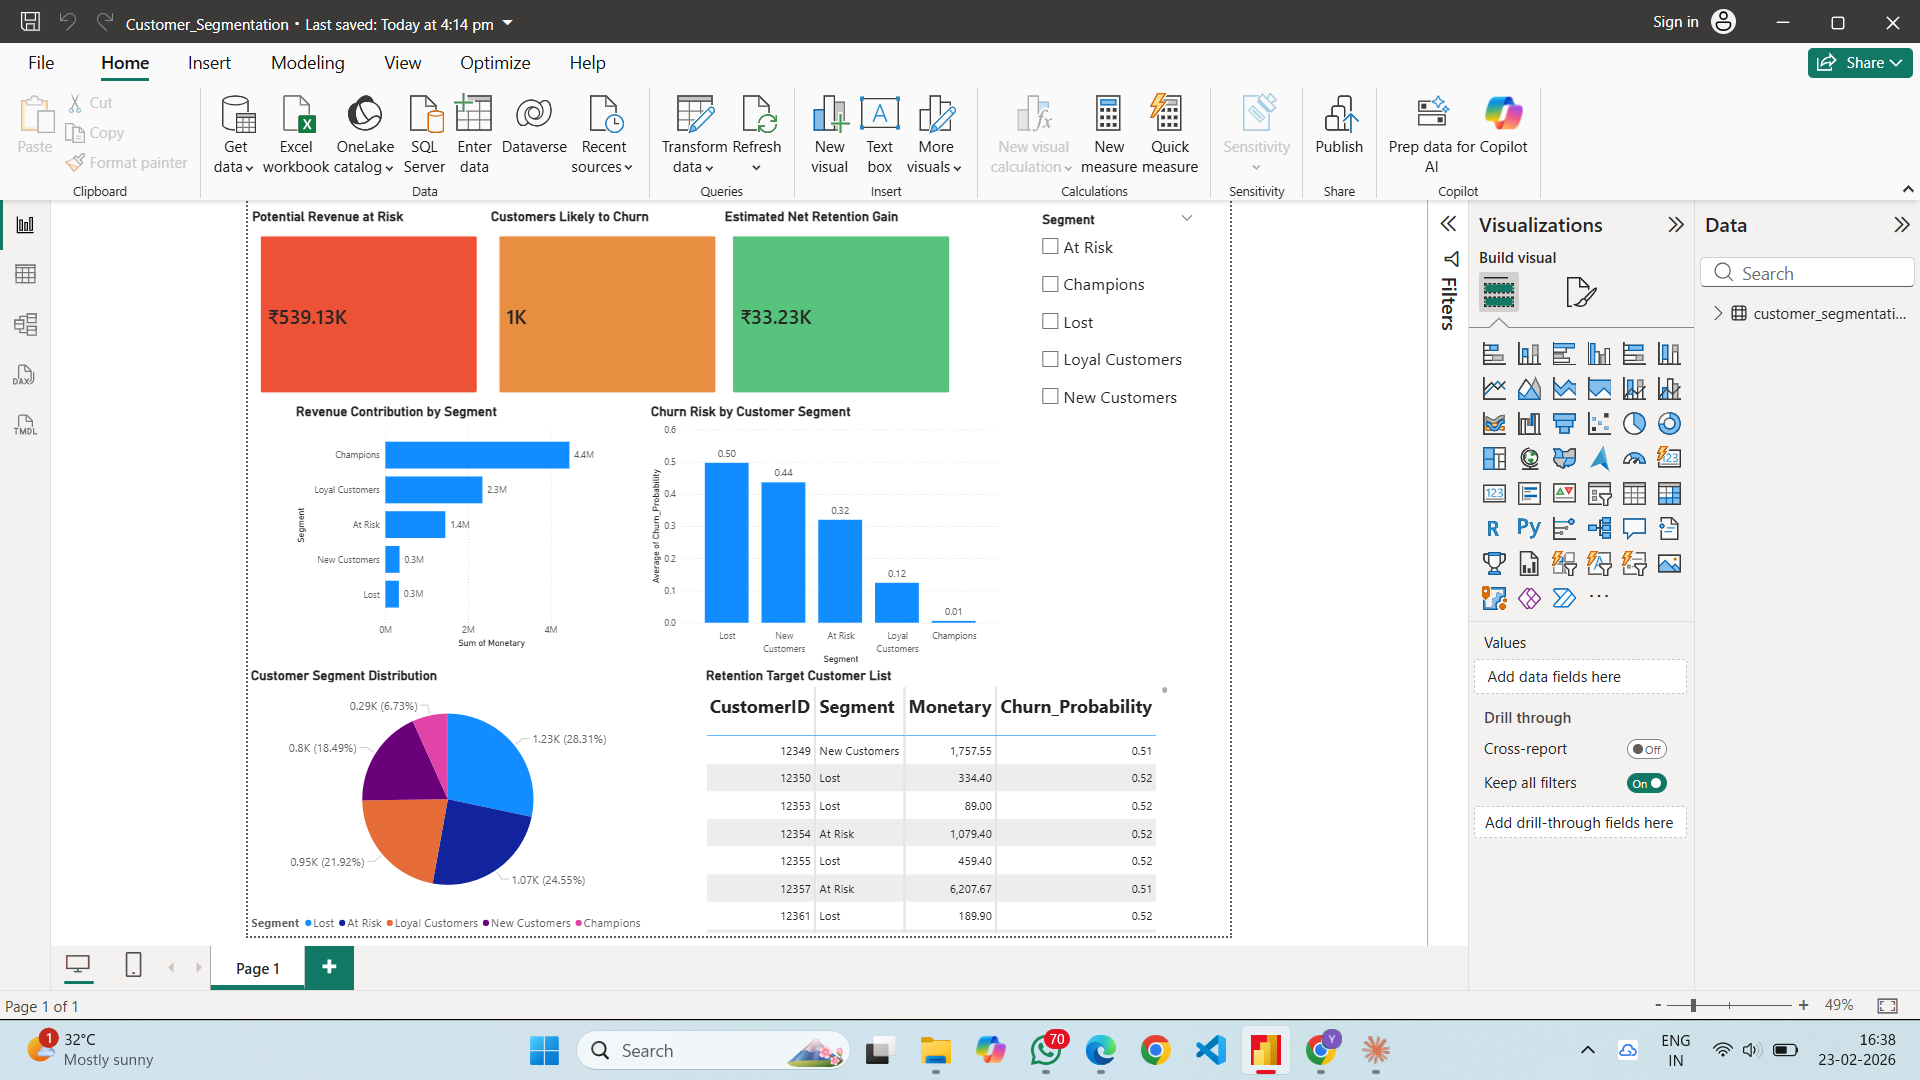

What the dashboard file says about the page in this screenshot:
{"tool":"powerbi","page":{"name":"Page 1","canvas":[1600,1200],"ordinal":0},"visuals":[{"type":"pieChart","title":"Customer Segment Distribution","fields":{"Category":["customer_segmentation_output.Segment"],"Y":["CountNonNull(customer_segmentation_output.CustomerID)"]},"box":[0,762.2,652.2,438.2],"z":0},{"type":"clusteredBarChart","title":"Revenue Contribution by Segment","fields":{"Category":["customer_segmentation_output.Segment"],"Y":["Sum(customer_segmentation_output.Monetary)"]},"box":[73.4,332.2,513.6,403.5],"z":1000},{"type":"clusteredColumnChart","title":"Churn Risk by Customer Segment","fields":{"Category":["customer_segmentation_output.Segment"],"Y":["Avg(customer_segmentation_output.Churn_Probability)"]},"box":[652.2,332.2,578.8,430],"z":2000},{"type":"cardVisual","title":"Customers Likely to Churn","fields":{"Data":["customer_segmentation_output.High Risk Customers"]},"box":[391.3,14.3,389.3,317.9],"z":3000},{"type":"tableEx","title":"Retention Target Customer List","fields":{"Values":["customer_segmentation_output.CustomerID","customer_segmentation_output.Segment","customer_segmentation_output.Monetary","customer_segmentation_output.Churn_Probability"]},"box":[741.9,762.2,762.2,438.2],"z":4000},{"type":"slicer","fields":{"Values":["customer_segmentation_output.Segment"]},"box":[1281.9,14.3,271.1,383.2],"z":5000},{"type":"cardVisual","title":"Potential Revenue at Risk","fields":{"Data":["customer_segmentation_output.Revenue At Risk"]},"box":[2,14.3,389,317.9],"z":6000},{"type":"cardVisual","title":"Estimated Net Retention Gain","fields":{"Data":["customer_segmentation_output.Retention ROI"]},"box":[772.4,14.3,389,317.9],"z":7000}]}

Visuals, with their boxes on the page's 1600x1200 design canvas (x1, y1, x2, y2). These are canvas units, not pixel positions in the 1920x1080 screenshot, which may show the page scaled, cropped or inside an application window:
"Customer Segment Distribution" pieChart: locate(0, 762, 652, 1200)
"Revenue Contribution by Segment" clusteredBarChart: locate(73, 332, 587, 736)
"Churn Risk by Customer Segment" clusteredColumnChart: locate(652, 332, 1231, 762)
"Customers Likely to Churn" cardVisual: locate(391, 14, 781, 332)
"Retention Target Customer List" tableEx: locate(742, 762, 1504, 1200)
slicer - customer_segmentation_output.Segment: locate(1282, 14, 1553, 398)
"Potential Revenue at Risk" cardVisual: locate(2, 14, 391, 332)
"Estimated Net Retention Gain" cardVisual: locate(772, 14, 1161, 332)
